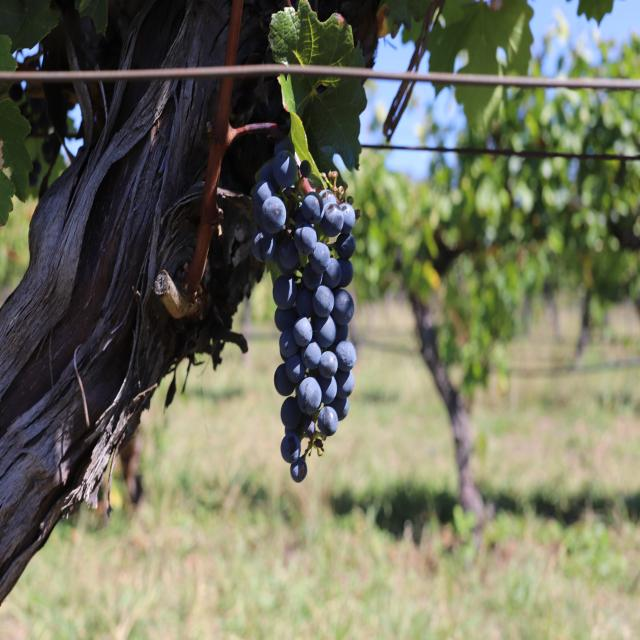grapes: (251, 138, 356, 482)
stem: (229, 124, 282, 139), (301, 178, 311, 193), (294, 154, 300, 165)
